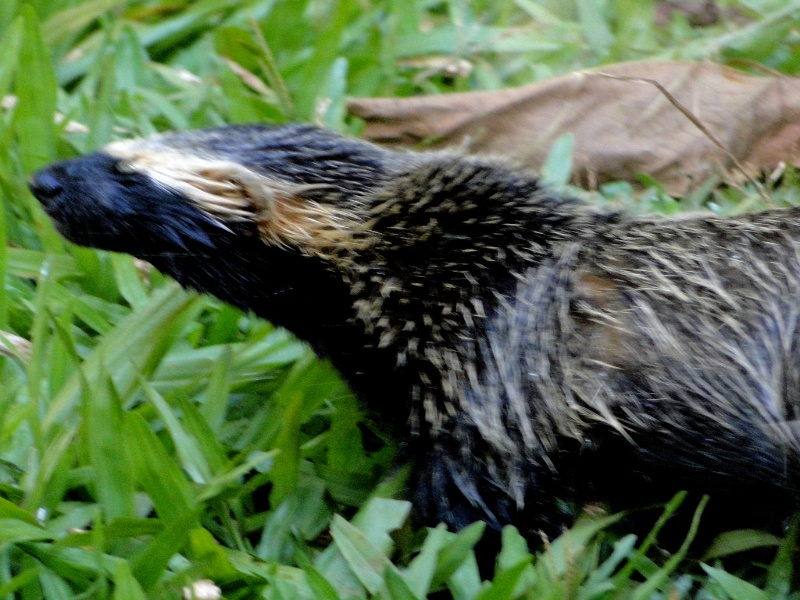minkish: (40, 113, 800, 522)
